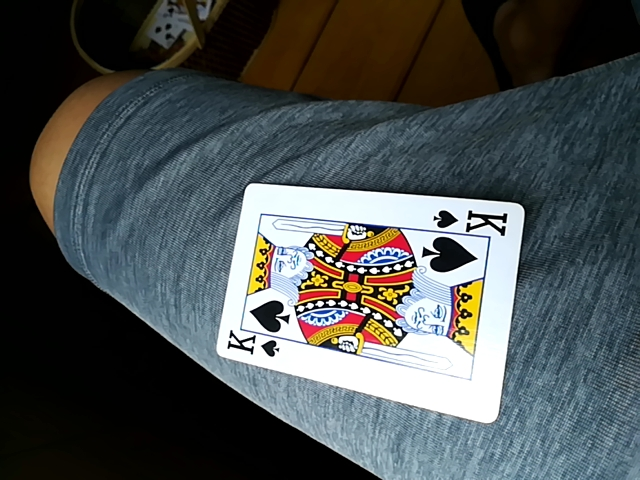ht k: (216, 177, 528, 423)
